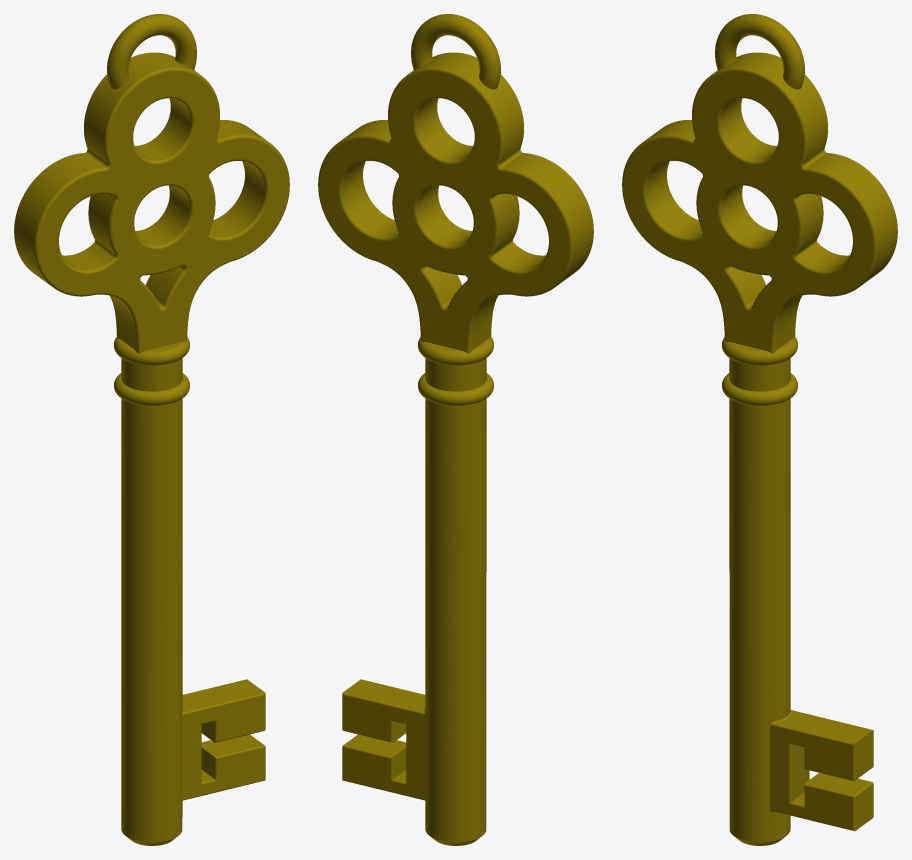
Rendered from Golden Key.fbx.
The picture shows the model from 3 angles, left to right: view 1: azimuth 30°, elevation 25°; view 2: azimuth 150°, elevation 25°; view 3: azimuth 330°, elevation 25°; orthographic projection.
Parts seen in each view (by area): view 1: Key_OBJ:Polygonal_Model_1Triangles_0; view 2: Key_OBJ:Polygonal_Model_1Triangles_0; view 3: Key_OBJ:Polygonal_Model_1Triangles_0.
Boxes of the visible parts, box(x1,y1,x2,y2) form: Key_OBJ:Polygonal_Model_1Triangles_0: box(14, 14, 289, 845); Key_OBJ:Polygonal_Model_1Triangles_0: box(318, 14, 593, 845); Key_OBJ:Polygonal_Model_1Triangles_0: box(622, 14, 897, 845).
Size of the model in its own units: 0.9406 by 2.89 by 0.2437.
